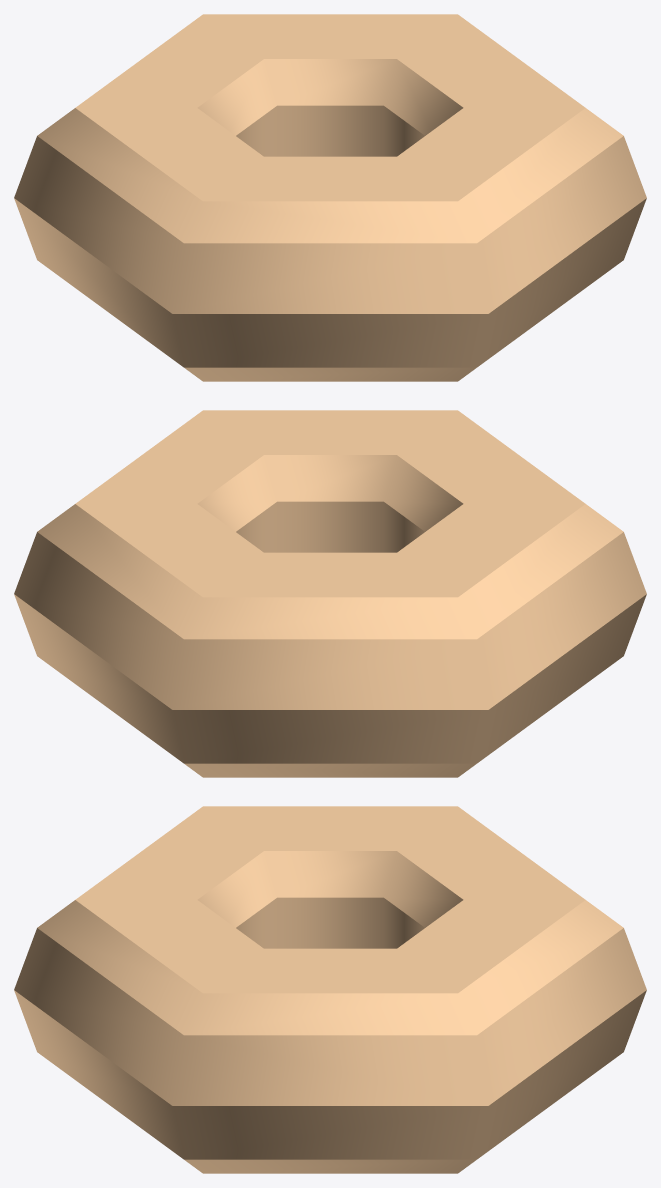
Rendered from donut.GLB.
3 renders of one model, top to bottom at view 1: azimuth 30°, elevation 25°; view 2: azimuth 150°, elevation 25°; view 3: azimuth 270°, elevation 25°, orthographic.
Visible parts, largest first — view 1: donut; view 2: donut; view 3: donut.
Part boxes in pixels (x1=…): donut: x1=14, y1=14, x2=646, y2=381; donut: x1=14, y1=410, x2=646, y2=777; donut: x1=14, y1=806, x2=646, y2=1173.
Size of the model in its own units: 0.2451 by 0.0889 by 0.283.
